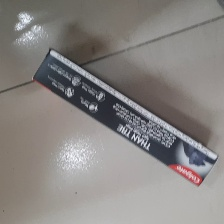Colgate Than: (32, 48, 220, 187)
